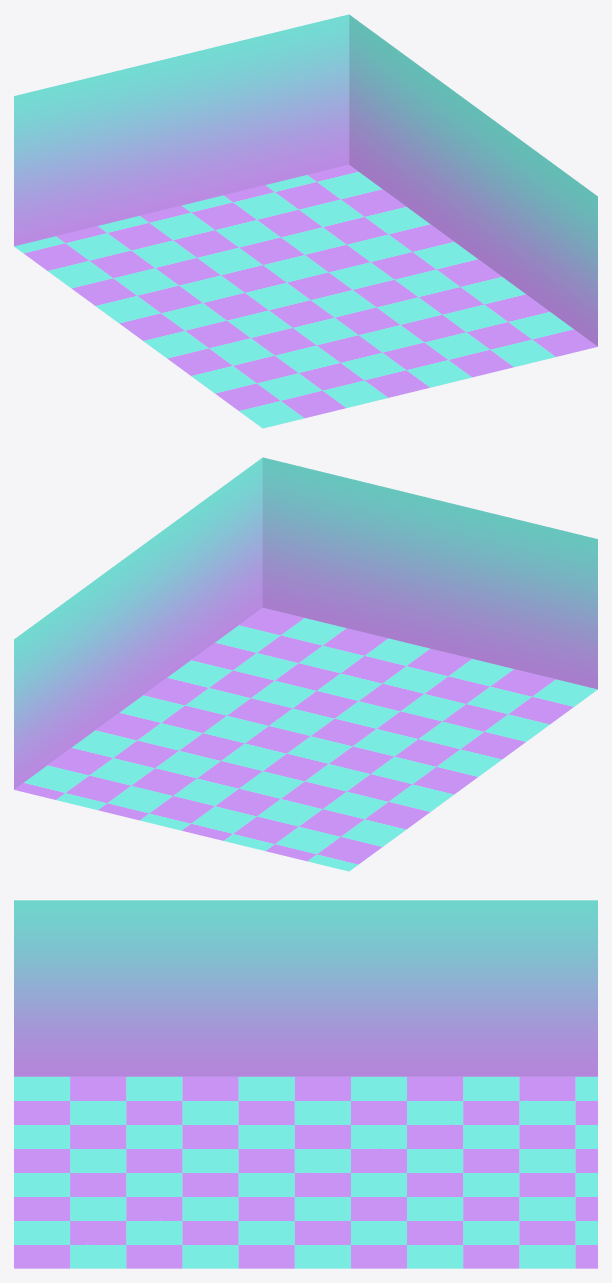
File: room.glb
3 views of the same model, one above another, from view 1: azimuth 30°, elevation 25°; view 2: azimuth 150°, elevation 25°; view 3: azimuth 270°, elevation 25° (orthographic). The views are drawn at different scales.
Visible parts, largest first — view 1: Cube; view 2: Cube; view 3: Cube.
Part boxes in pixels (<box>): Cube: <box>14,14,597,428</box>; Cube: <box>14,457,597,871</box>; Cube: <box>14,900,597,1268</box>.
Bounding box in the file's own units: 14 × 6 × 18.
2 materials, 2 textured.
